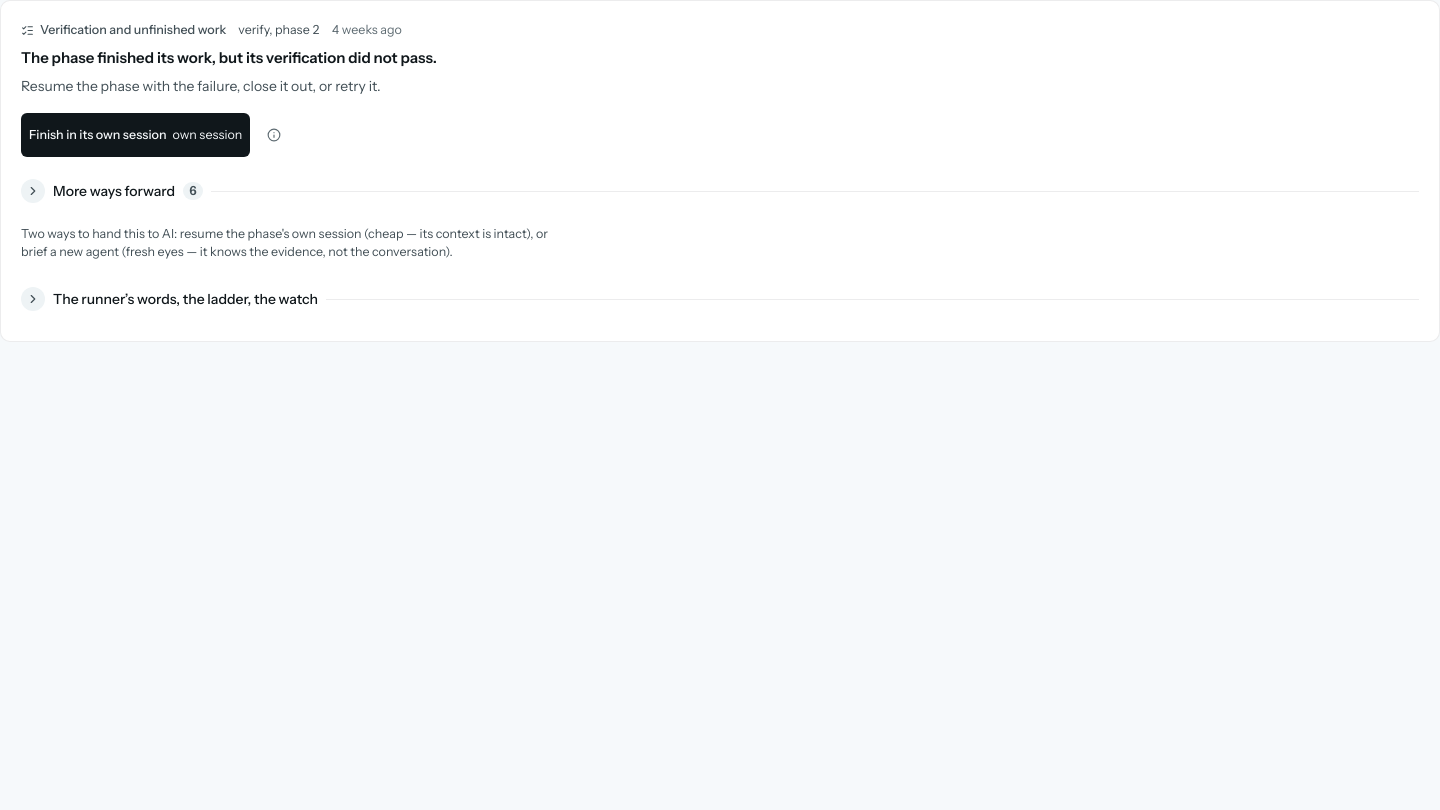
Test: the card names the family, one sentence, and the ONE recommended recovery › verification: the recommended verb is drawn first and alone — every other way forward is one press behind it
Check: the button "Resume with an instruction" is not shown
Check: the button "Re-check" is not shown
Click the text "More ways forward".
click(114, 191)  # box [53,181,175,202]
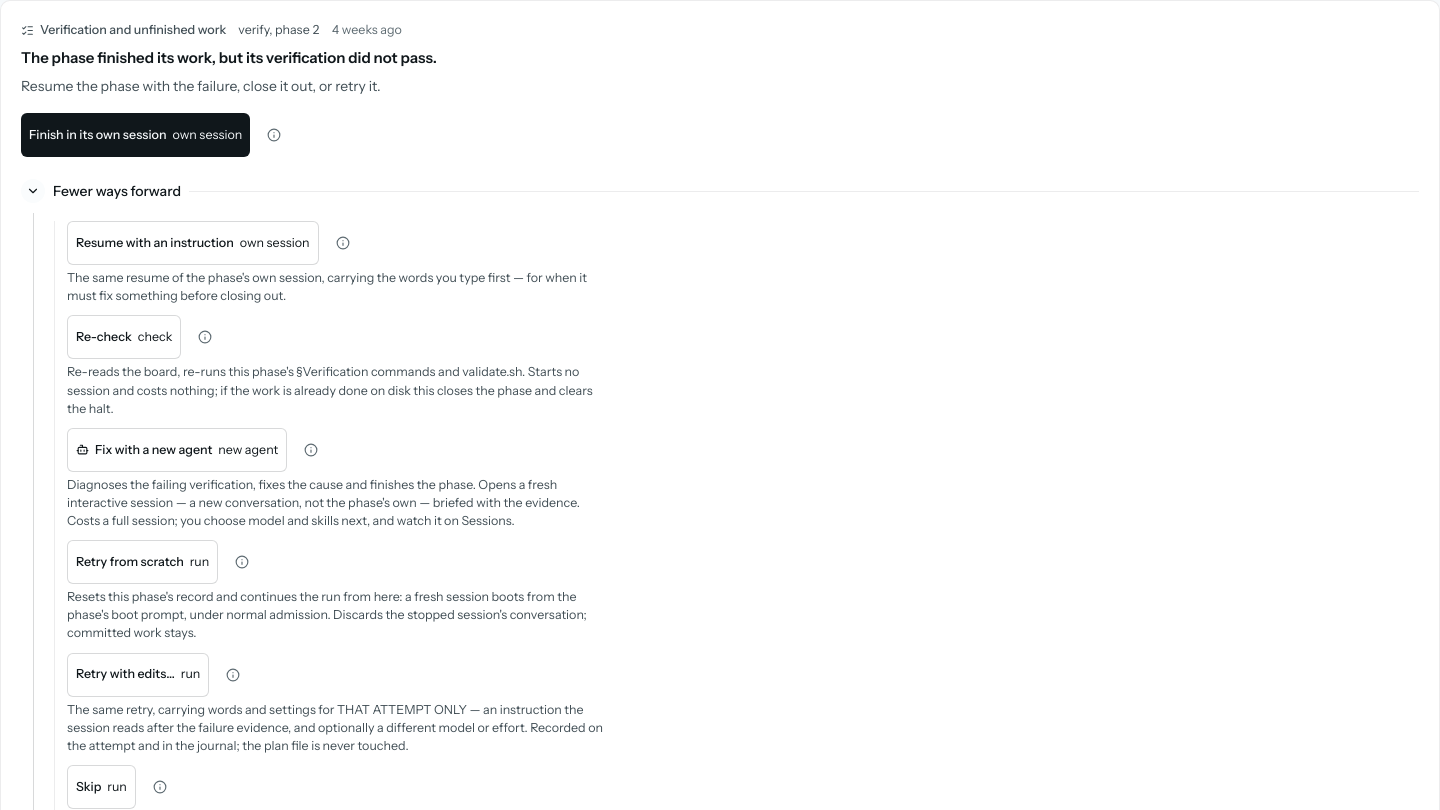
Check: the button "Resume with an instruction own session" is shown, box [67,221,318,265]
Check: the button "Re-check check" is shown, box [67,315,181,359]
Check: the button "Fix with a new agent new agent" is shown, box [67,428,287,472]
